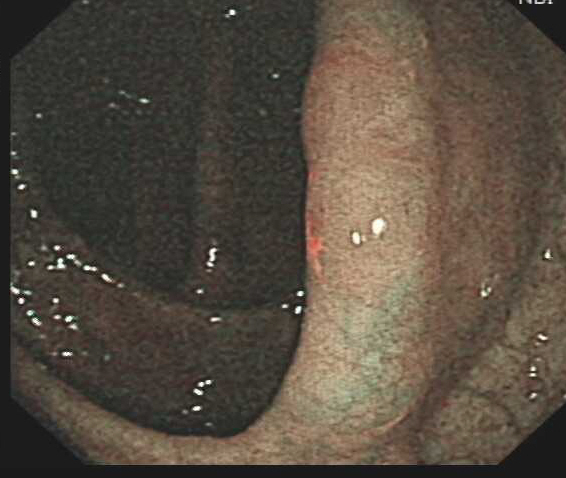others: (298, 40, 443, 292)
